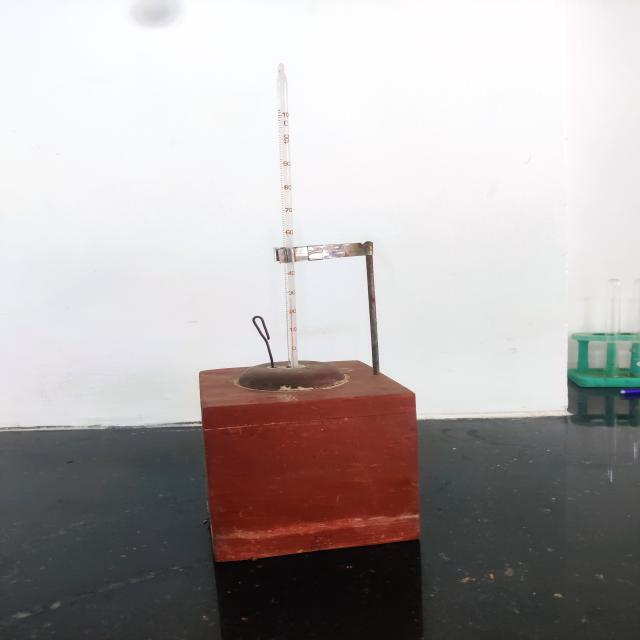Calorimeter: (150, 54, 487, 591)
